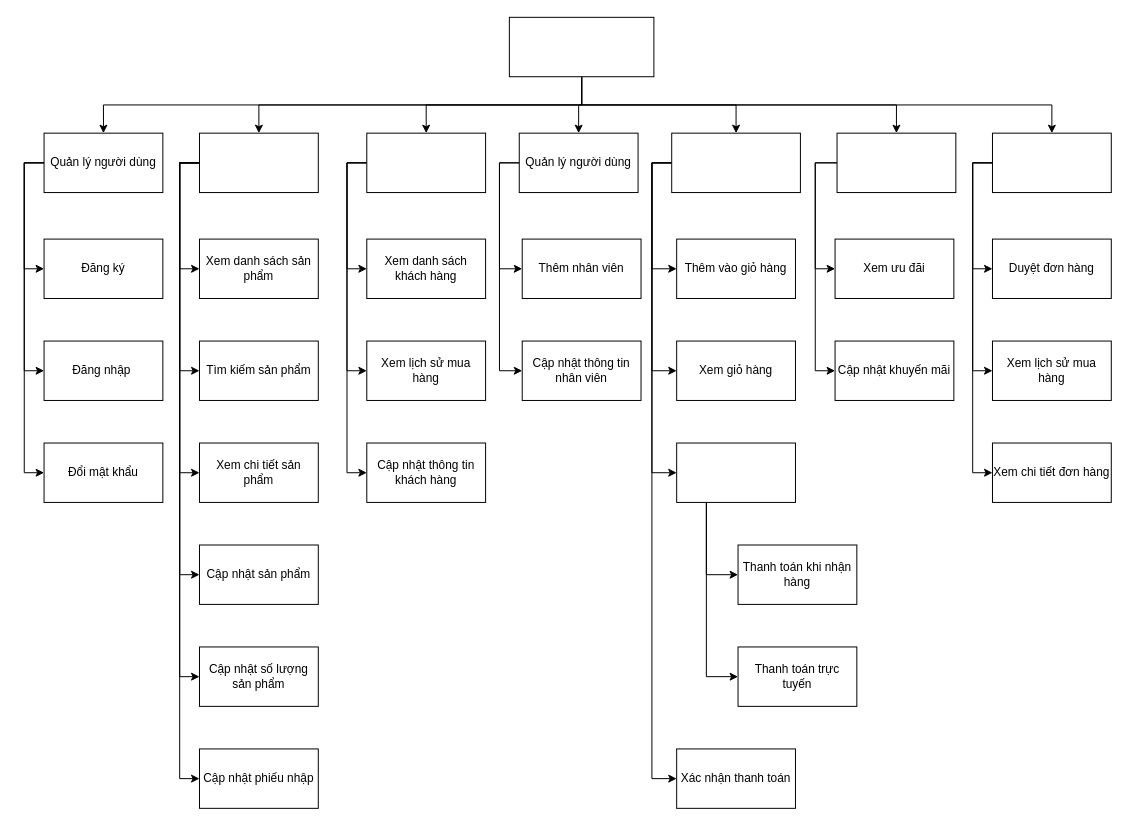
Image size: 1129x826. Some labels were removed from this diagram. Here are the shapes that lost their labels. From the top down, the box of each, then its label:
(508, 16, 654, 77): HỆ THỐNG WEBSITE BÁN LINH KIỆN ĐIỆN TỬ
(198, 132, 318, 193): Quản lý sản phẩm
(366, 132, 486, 193): Quản lý khách hàng
(671, 132, 800, 193): Mua hàng & thanh toán
(836, 132, 956, 193): Quản lý ưu đãi
(991, 132, 1111, 193): Quản lý đơn hàng
(676, 442, 795, 502): Tiến hành thanh toán
